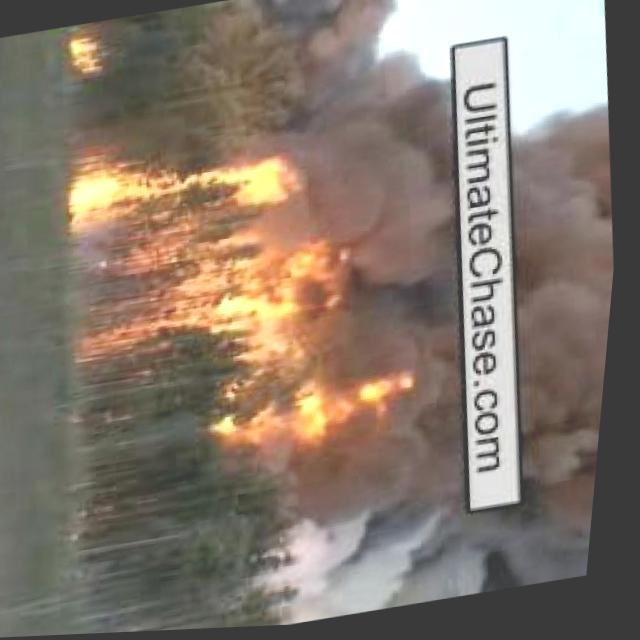Fire: (69, 124, 352, 368), (218, 360, 439, 474), (61, 23, 106, 98)
Smoke: (217, 0, 529, 630), (482, 96, 632, 591)
